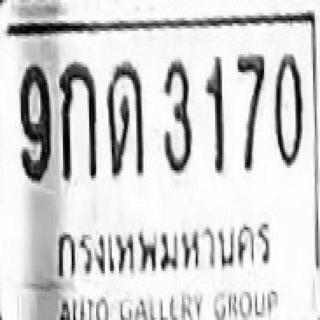A01: (58, 59, 96, 178)
A20: (106, 59, 144, 176)
N00: (273, 52, 303, 168)
N01: (205, 55, 224, 174)
N03: (162, 58, 191, 174)
N07: (235, 52, 265, 170)
N09: (18, 62, 49, 181)
P04: (53, 221, 272, 274)
